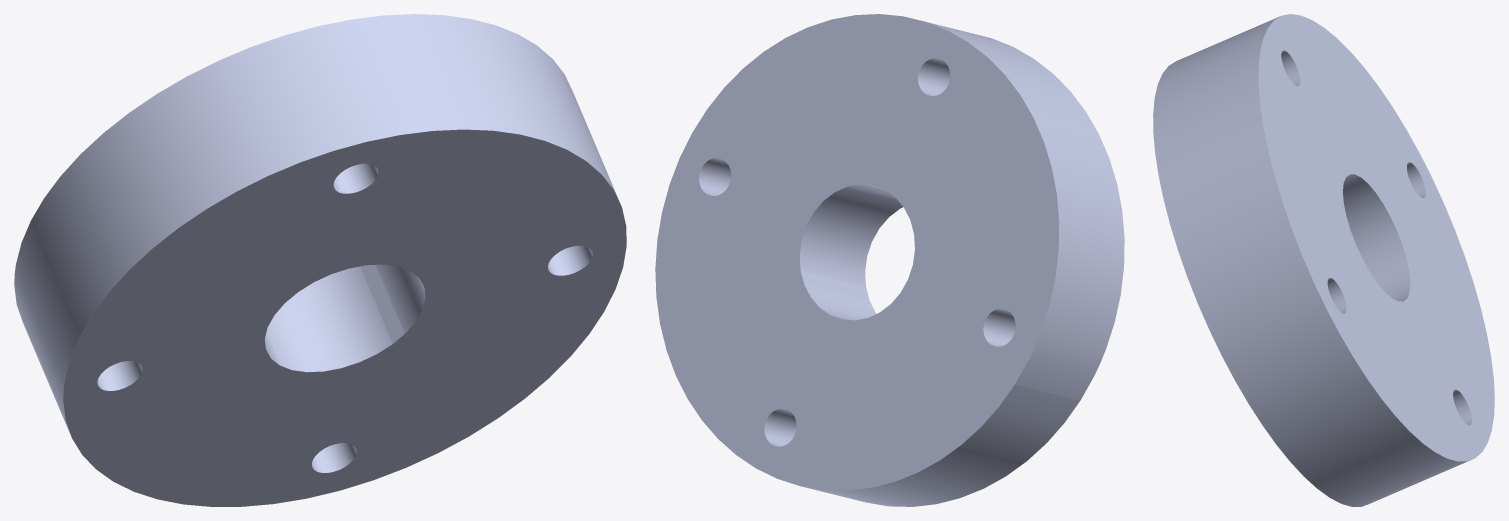
The model's file is c_3_robot_export_clean__rx28_disc_1_4.dae.
3 views of the same model, side by side, from view 1: azimuth 30°, elevation 25°; view 2: azimuth 150°, elevation 25°; view 3: azimuth 270°, elevation 25° (orthographic). The views are drawn at different scales.
Parts seen in each view (by area): view 1: node0; view 2: node0; view 3: node0.
Part boxes in pixels (<box>): node0: <box>14,14,626,506</box>; node0: <box>655,14,1124,506</box>; node0: <box>1153,14,1494,506</box>.
Bounding box in the file's own units: 0.0205 × 0.02 × 0.0141.
